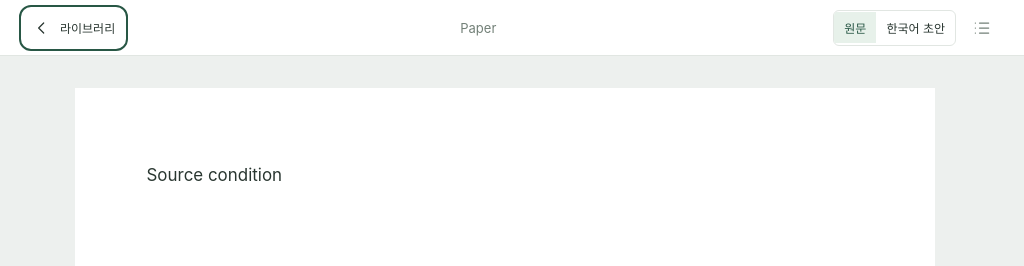
Test: opens source first, switches draft with warning and returns to the original
The width and height of the screenshot is (1024, 266).
Expected: the text "Source condition" is shown, [146,165,282,185]
Click the button "한국어 초안": {"x": 916, "y": 28} [876,12,955,43]
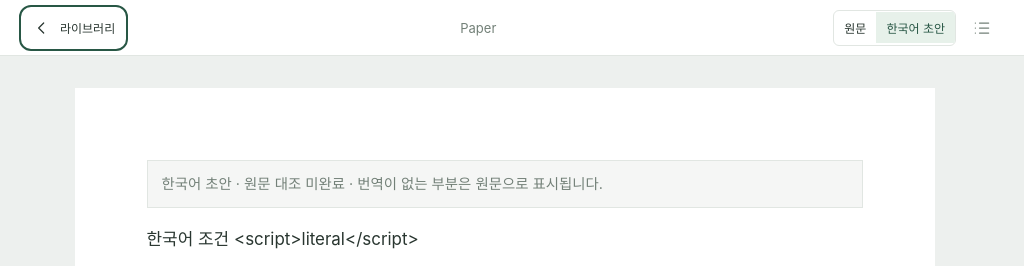
Now the text "한국어 조건 <script>literal</script>" is shown, box [146,229,419,249]
Now the message shows "원문 대조 미완료", box [162,175,345,192]
Click the button "원문": {"x": 855, "y": 28} [834,12,876,43]
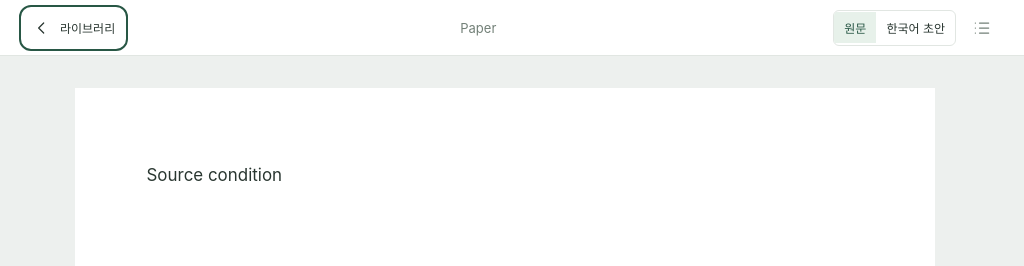
Now the text "Source condition" is shown, box [146,165,282,185]
Now the text "원문 대조 미완료" is gone
